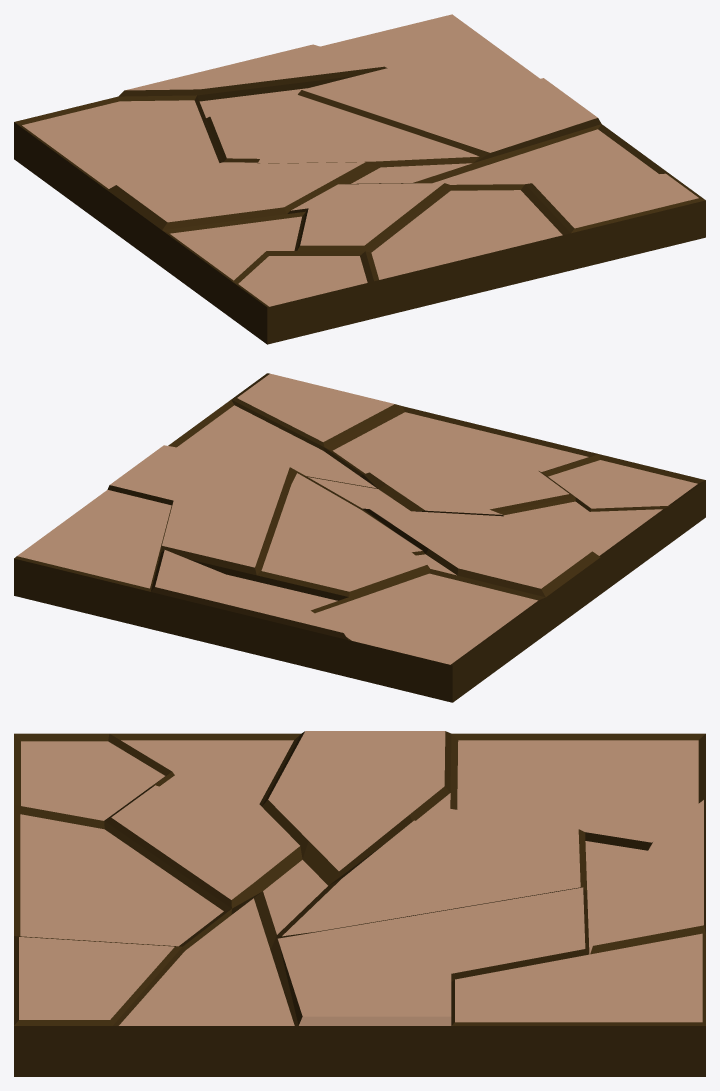
File: fallTrap.fbx
3 views of the same model, one above another, from view 1: azimuth 30°, elevation 25°; view 2: azimuth 150°, elevation 25°; view 3: azimuth 270°, elevation 25° (orthographic). The views are drawn at different scales.
Visible parts, largest first — view 1: FallingPlat; view 2: FallingPlat; view 3: FallingPlat.
Part boxes in pixels (<box>): FallingPlat: <box>14,14,705,344</box>; FallingPlat: <box>14,373,705,702</box>; FallingPlat: <box>14,731,705,1076</box>.
Bounding box in the file's own units: 246 × 23.07 × 246.
